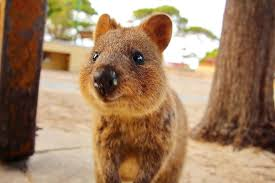quokka: (69, 12, 190, 183)
